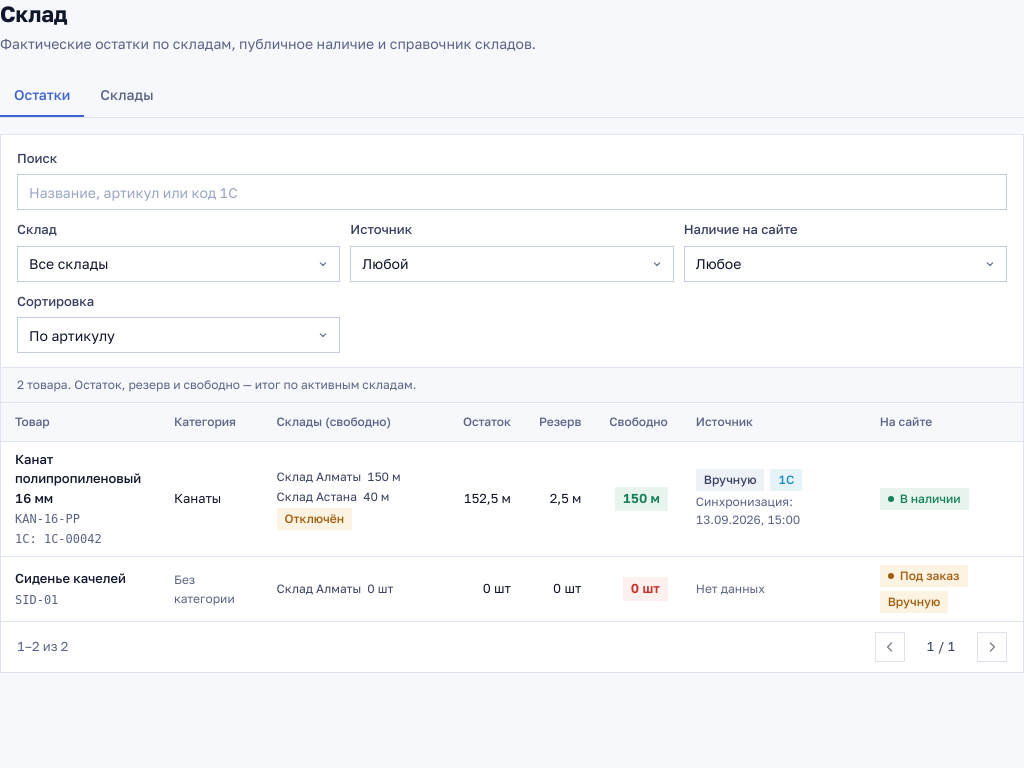
it: правка остатков в панели › резерв больше остатка — ошибка у резерва, запрос не уходит
Click the button "Канат полипропиленовый 16 мм" at (80, 479), box [15, 450, 146, 508]
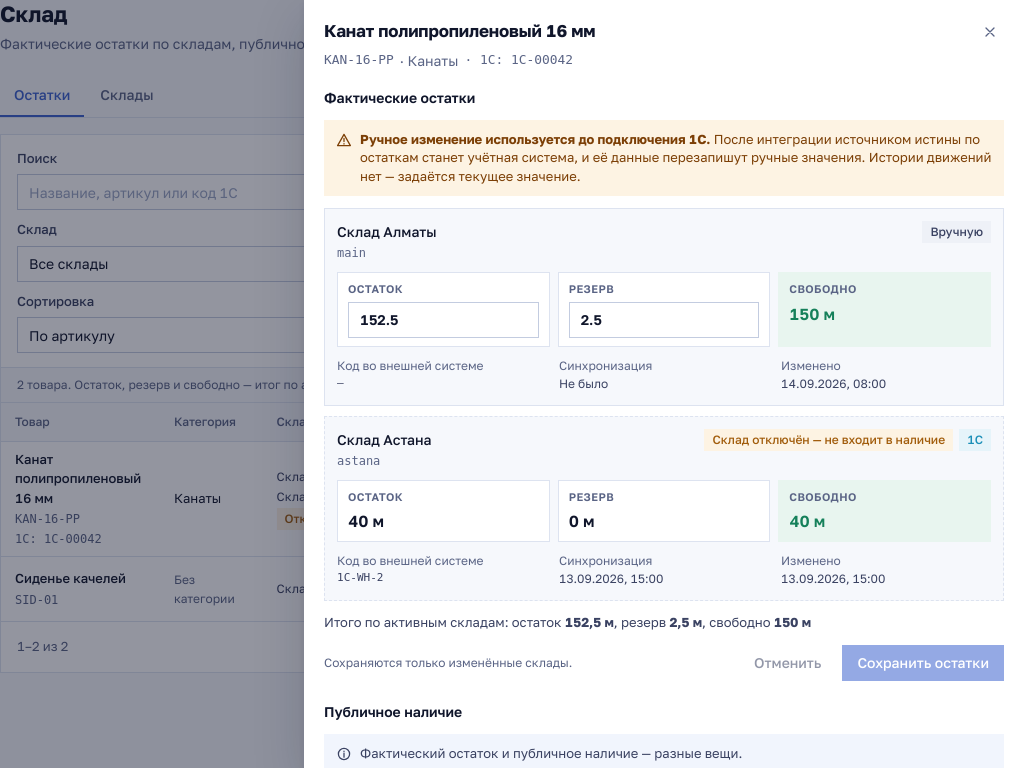
Check: the text "Фактические остатки" is shown, box [324, 88, 475, 106]
Check: the list item with aria-label "Склад «Склад Алматы»" is shown, box [324, 208, 1004, 406]
Replace the text in the 2nd field named "Резерв, м" with "152.501" at (664, 320), box [569, 302, 759, 338]
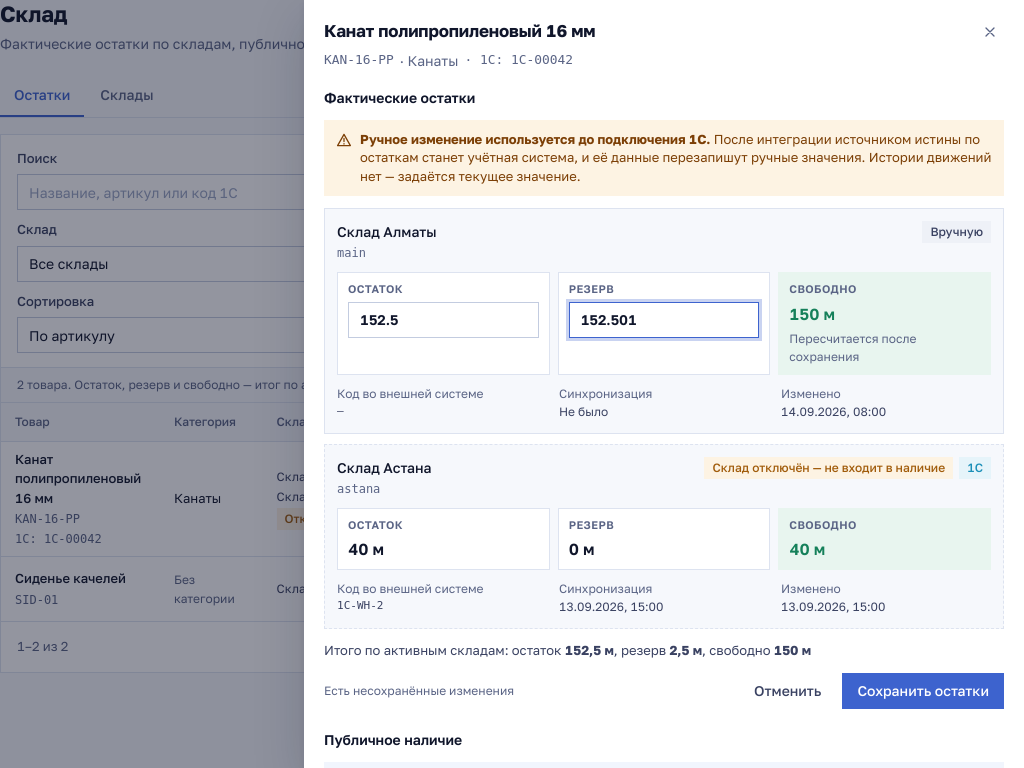
Click the button "Сохранить остатки" at (923, 690), box [842, 672, 1004, 708]
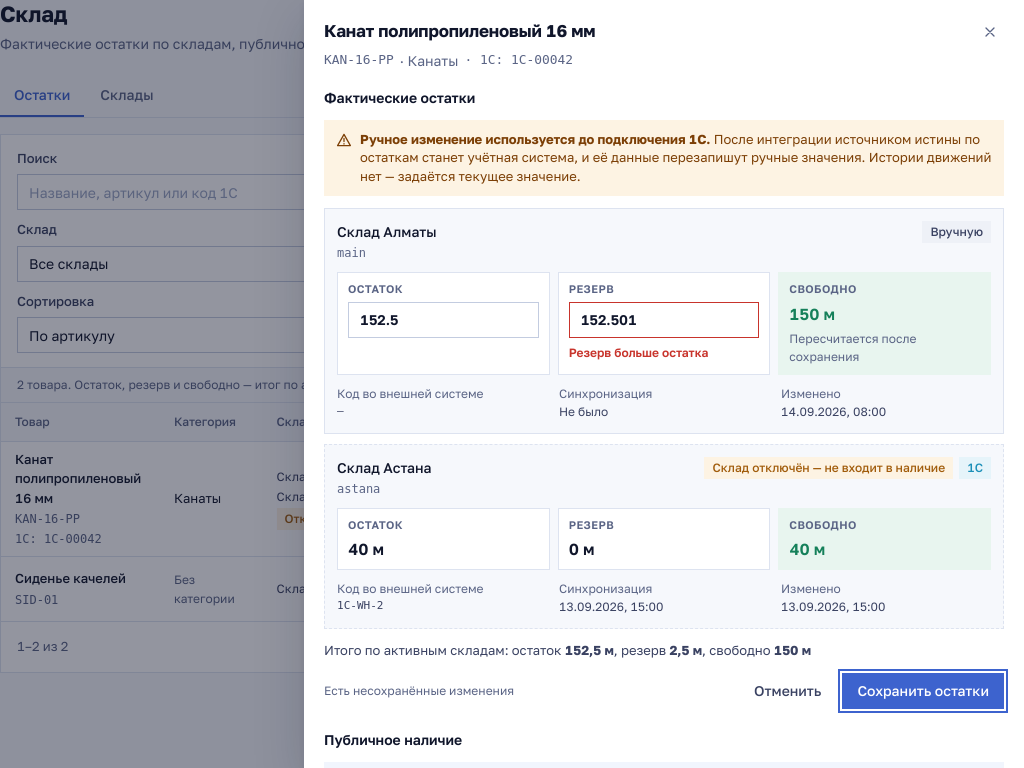
Click the button "Отменить" at (788, 690), box [739, 672, 836, 708]
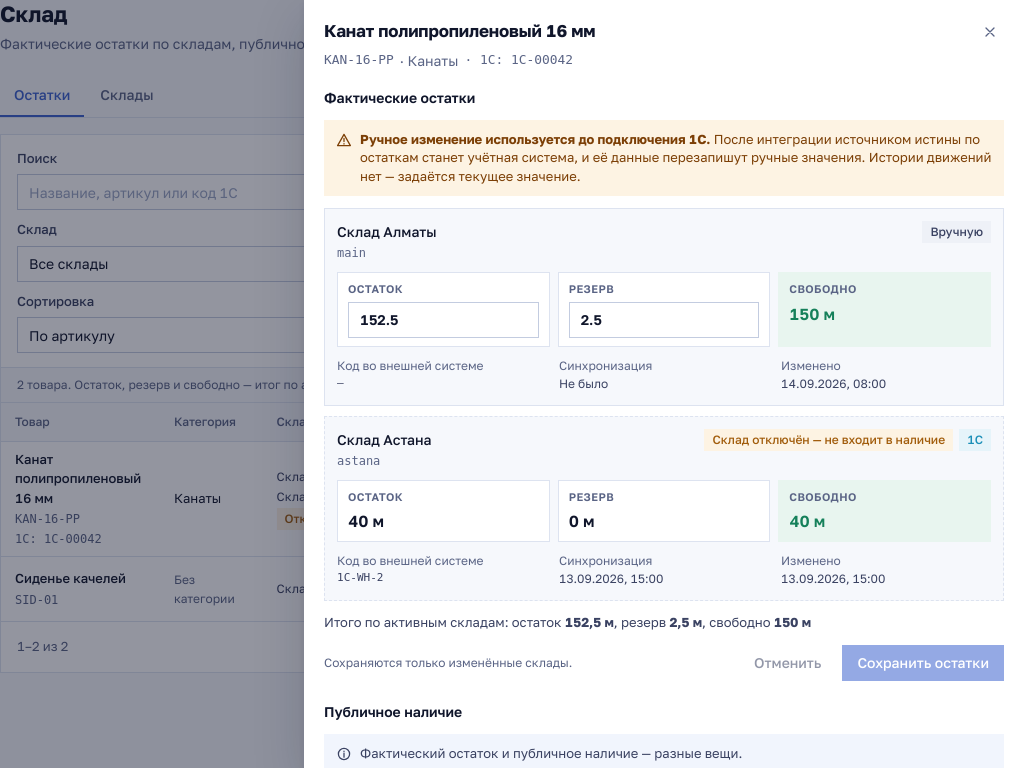
Check: the 2nd field named "Резерв, м" holds "2.5", box [569, 302, 759, 338]
